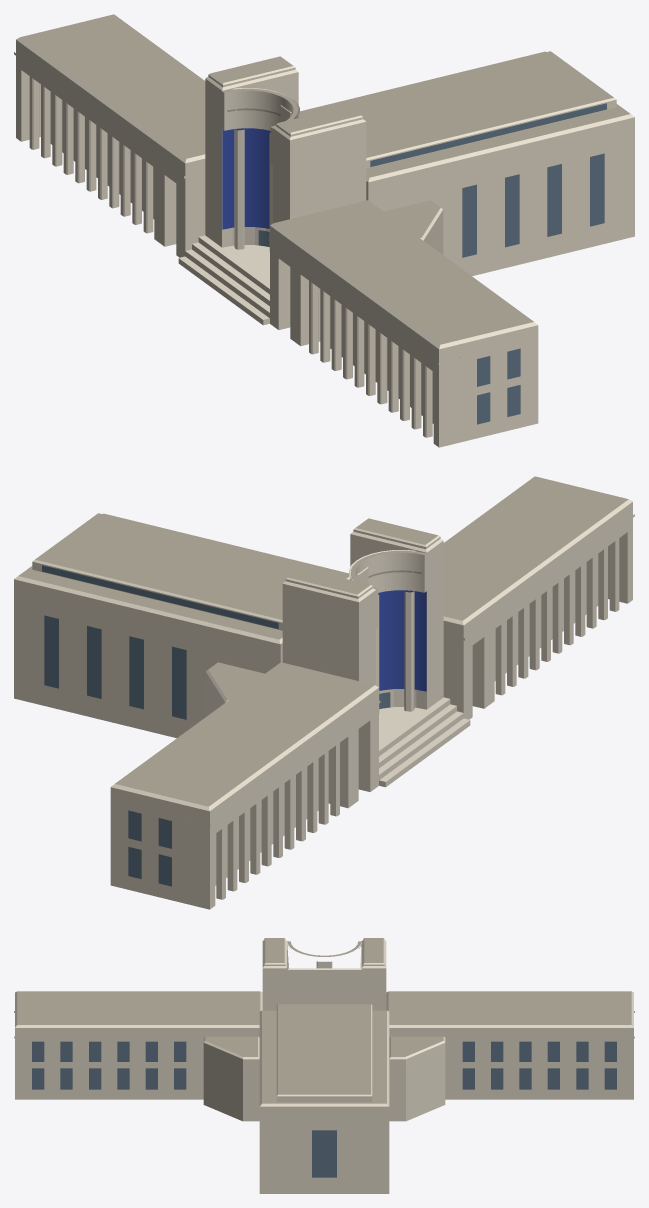
The model's file is dal-hall-of-state.glb.
3 renders of one model, top to bottom at view 1: azimuth 30°, elevation 25°; view 2: azimuth 150°, elevation 25°; view 3: azimuth 270°, elevation 25°, orthographic. The views are drawn at different scales.
Parts seen in each view (by area): view 1: Hall of State; view 2: Hall of State; view 3: Hall of State.
Boxes of the visible parts, x1=… form: Hall of State: x1=14, y1=14, x2=634, y2=447; Hall of State: x1=14, y1=476, x2=634, y2=909; Hall of State: x1=14, y1=938, x2=634, y2=1193.
Bounding box in the file's own units: 55.54 × 26.4 × 110.
